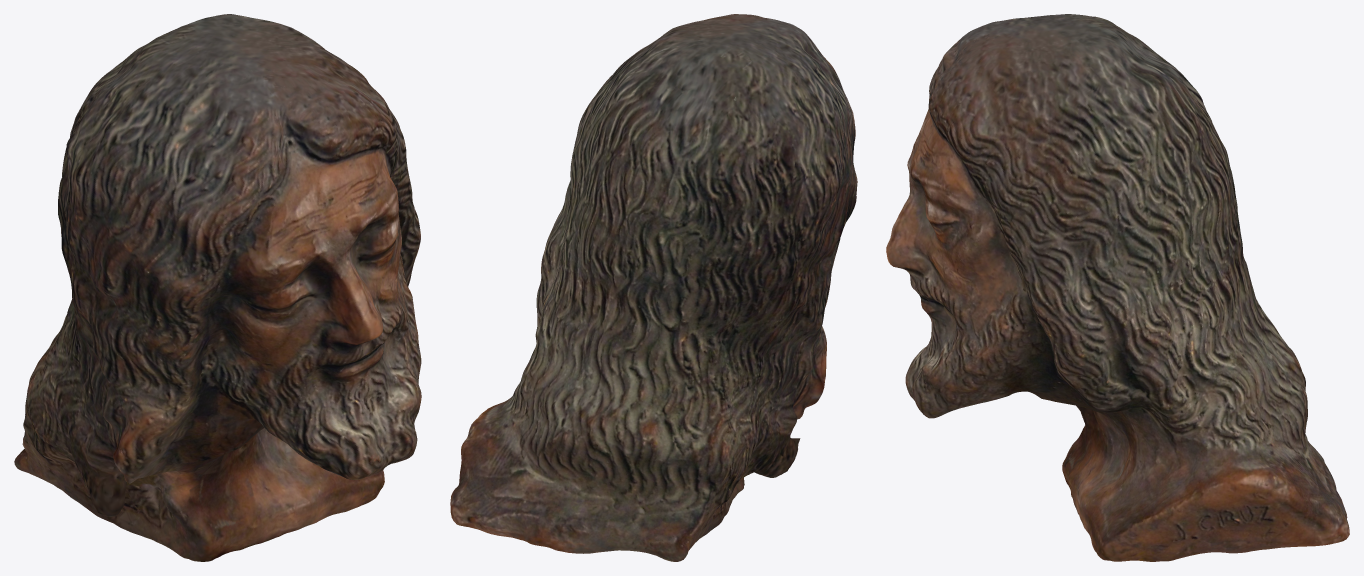
The model's file is CabezCristo.glb.
3 renders of one model, left to right at view 1: azimuth 30°, elevation 25°; view 2: azimuth 150°, elevation 25°; view 3: azimuth 270°, elevation 25°, orthographic. The views are drawn at different scales.
Visible parts, largest first — view 1: CristoRetopo_Remesher; view 2: CristoRetopo_Remesher; view 3: CristoRetopo_Remesher.
Boxes of the visible parts, bbox=[...] form: CristoRetopo_Remesher: bbox=[14, 14, 421, 561]; CristoRetopo_Remesher: bbox=[450, 14, 857, 561]; CristoRetopo_Remesher: bbox=[886, 14, 1349, 561].
Size of the model in its own units: 1.43 by 2.14 by 1.95.
Materials: 1 (1 with a texture image).
